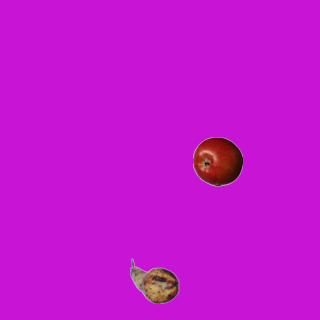Apple Braeburn: (192, 136, 242, 186)
Pear Abate: (129, 256, 179, 306)
